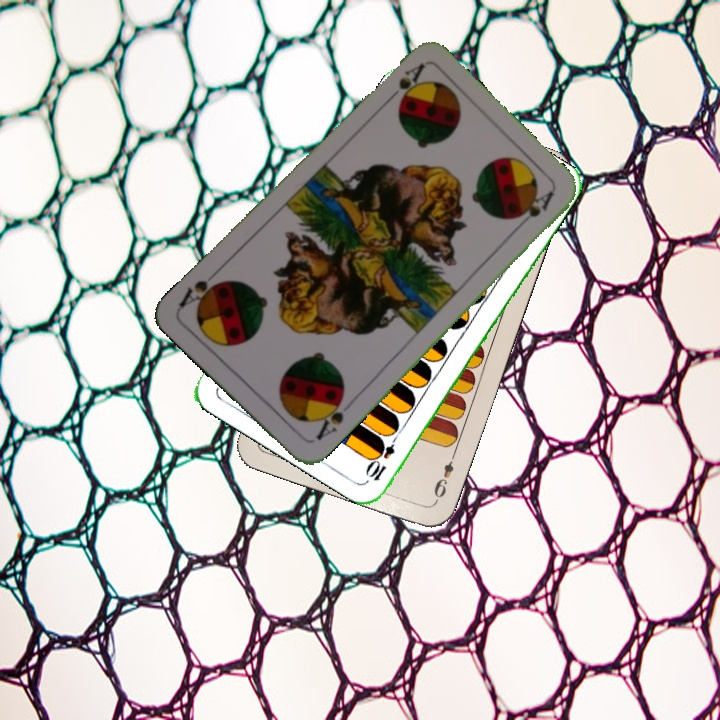E10: (363, 428, 402, 484)
E9: (429, 449, 459, 506)
SA: (311, 391, 355, 444), (381, 59, 428, 108)
